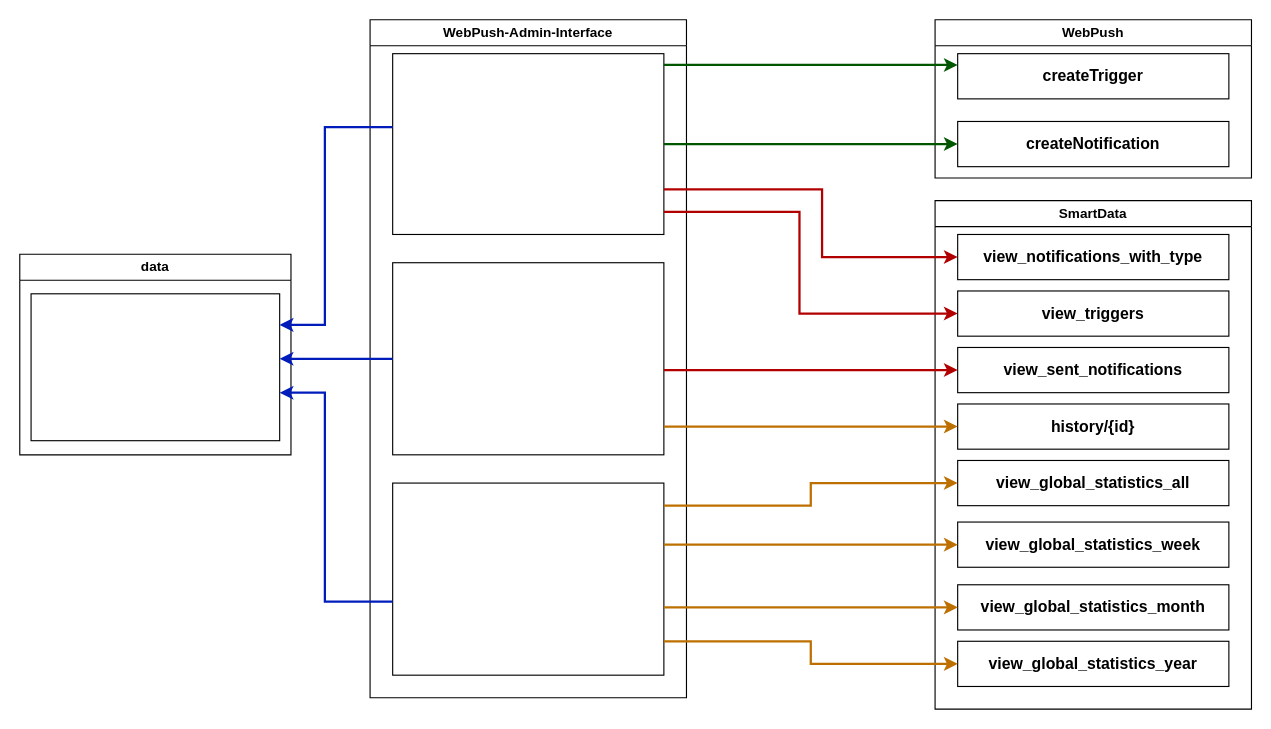
The diagram is 1271 pixels wide and 729 high, and some of its shapes have lost their labels. Here are the shapes that lost their labels. From the top down, the centre of each, then its label:
At point (528, 143): "index.html".
At point (155, 367): "routes.json".
At point (528, 358): "history.html".
At point (528, 578): "analytics.html".
